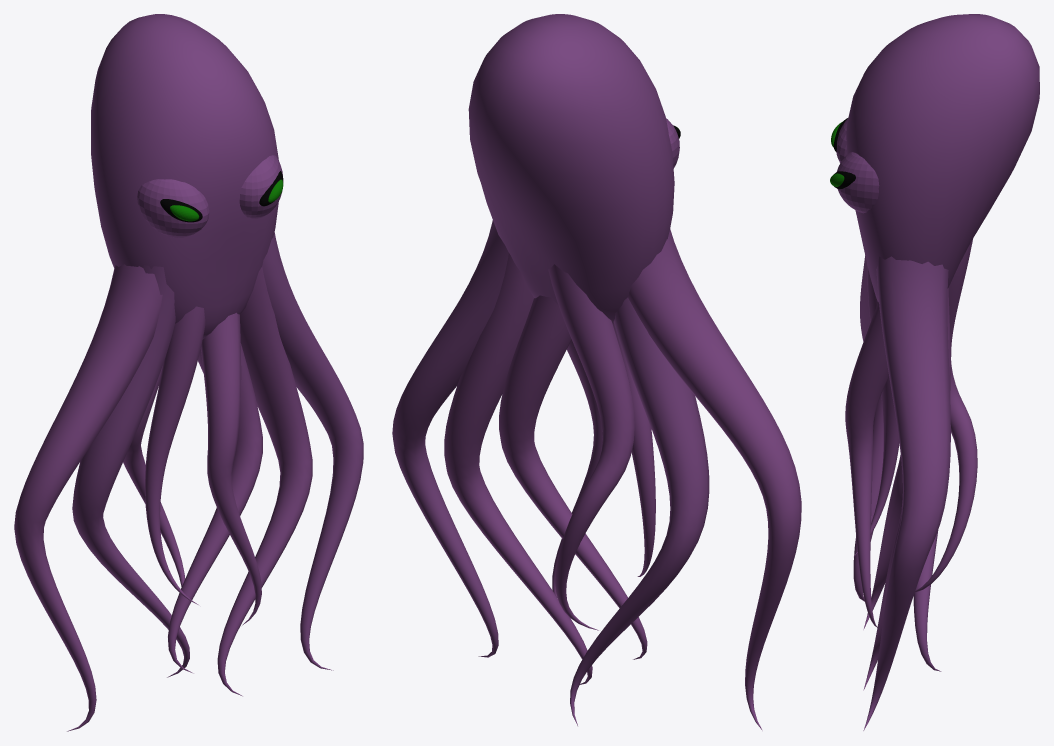
File: Poulpe.fbx
The picture shows the model from 3 angles, left to right: view 1: azimuth 30°, elevation 25°; view 2: azimuth 150°, elevation 25°; view 3: azimuth 270°, elevation 25°; orthographic projection. The views are drawn at different scales.
Visible parts, largest first — view 1: tête, tentaculle gauche, tentaculle droite, tentaculle milieu, yeux; view 2: tête, tentaculle gauche, tentaculle droite, tentaculle milieu; view 3: tête, tentaculle droite, tentaculle milieu, tentaculle gauche, yeux.
Part boxes in pixels (x1,y1,x2,y2): tête: [91, 14, 278, 339]; tentaculle gauche: [14, 264, 189, 731]; tentaculle droite: [217, 232, 363, 696]; tentaculle milieu: [123, 306, 262, 673]; yeux: [137, 155, 283, 237]; tête: [468, 14, 674, 324]; tentaculle gauche: [570, 229, 801, 730]; tentaculle droite: [392, 220, 592, 684]; tentaculle milieu: [499, 264, 655, 659]; tête: [846, 14, 1039, 302]; tentaculle droite: [863, 256, 950, 730]; tentaculle milieu: [845, 239, 977, 629]; tentaculle gauche: [853, 255, 941, 671]; yeux: [830, 118, 879, 213].
Size of the model in its own units: 2.78 by 4.83 by 1.4.
